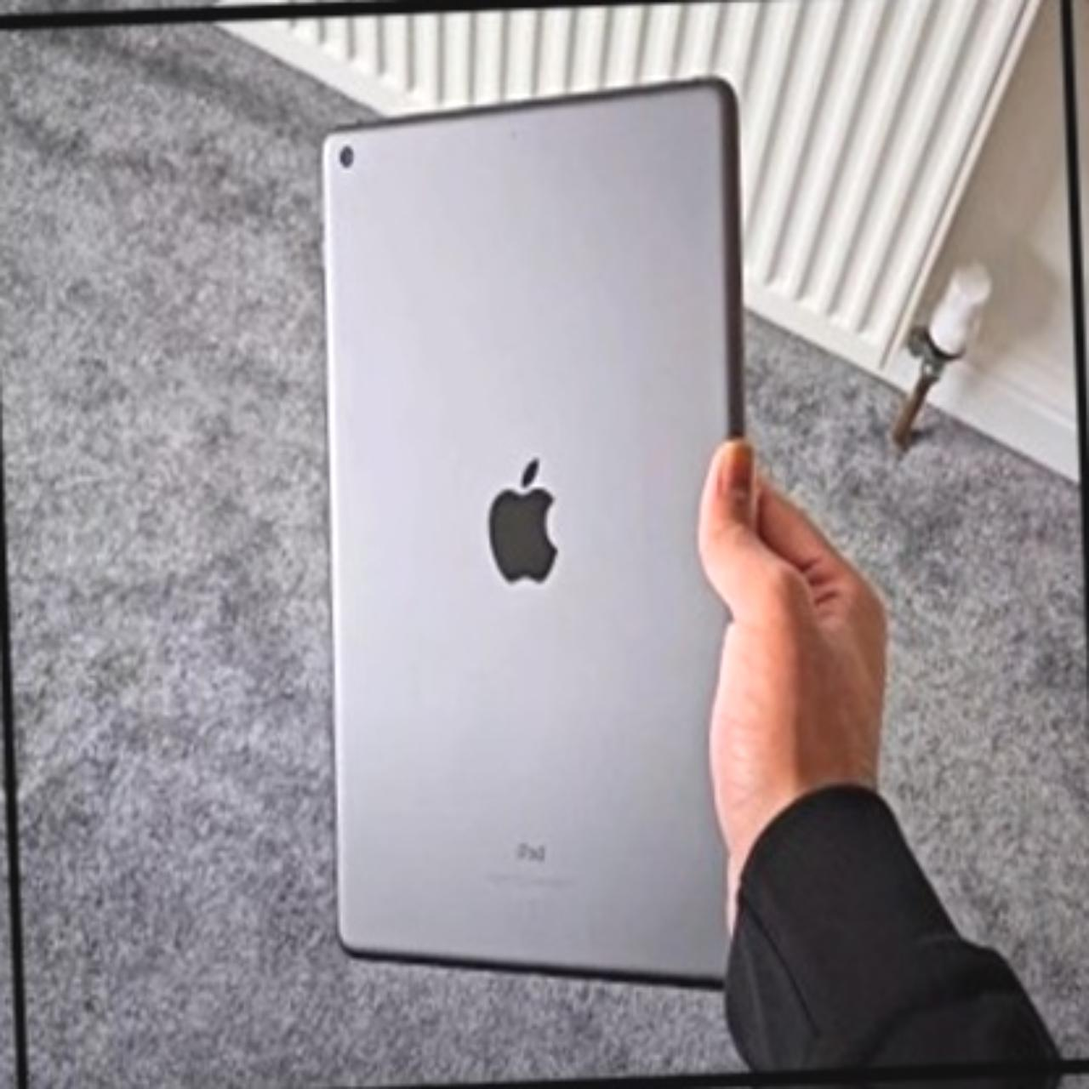Tablet_PC: (280, 69, 809, 1011)
